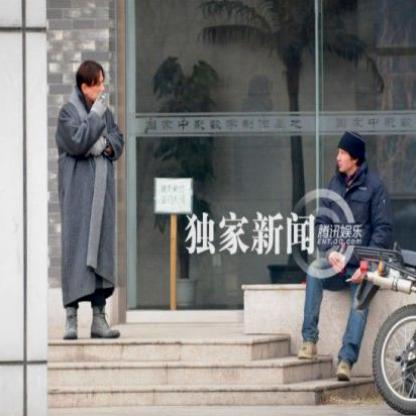person: (296, 126, 396, 374), (53, 60, 132, 348)
